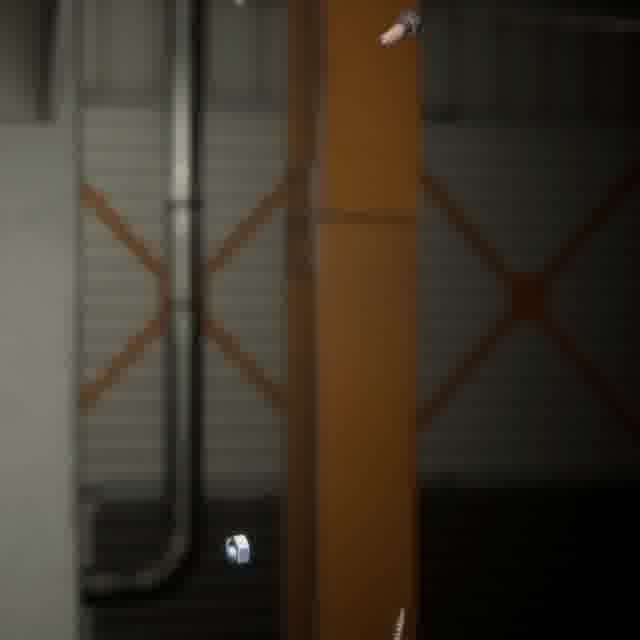bolt: (373, 6, 426, 52)
nut: (222, 530, 254, 569)
